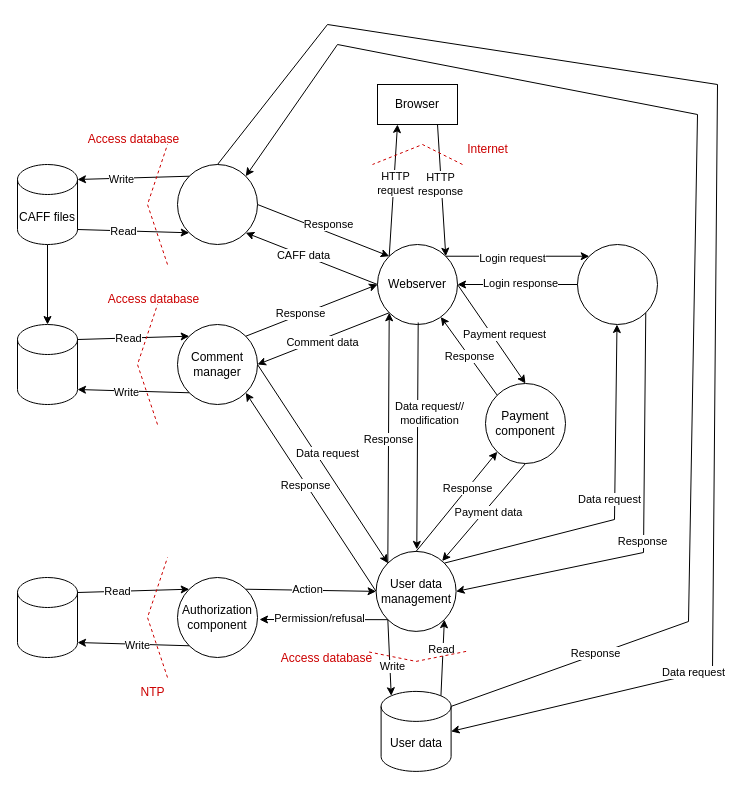
This 743x789 diagram has some shape labels left out. The centre of each missing label's shape, as x and y in pixels:
"Authentication component" belongs at [617,284].
"CAFF file manager" belongs at [217,204].
"Comment Database" belongs at [47,364].
"Time" belongs at [47,617].
